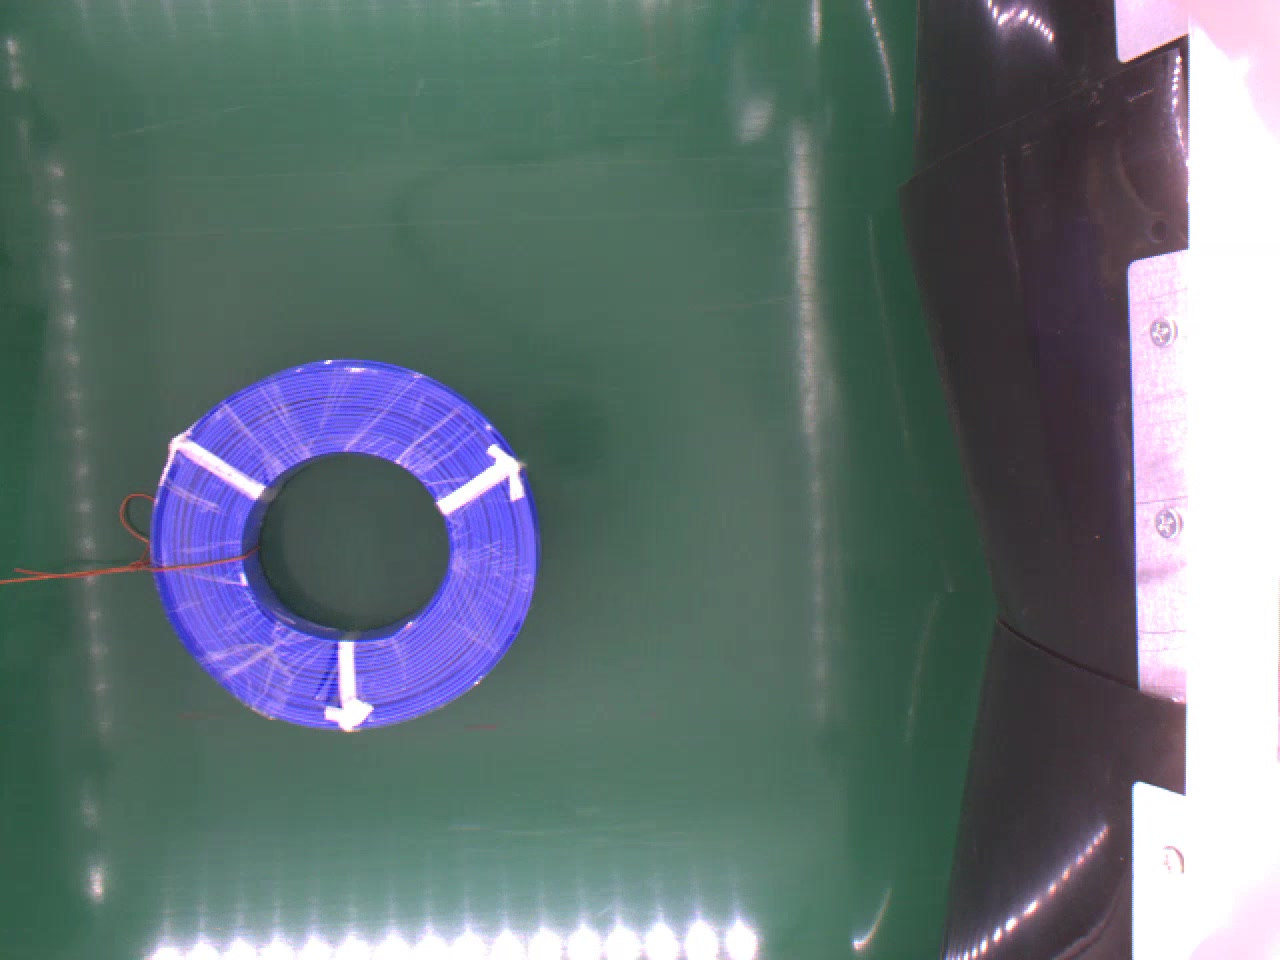blue: (148, 356, 540, 734)
